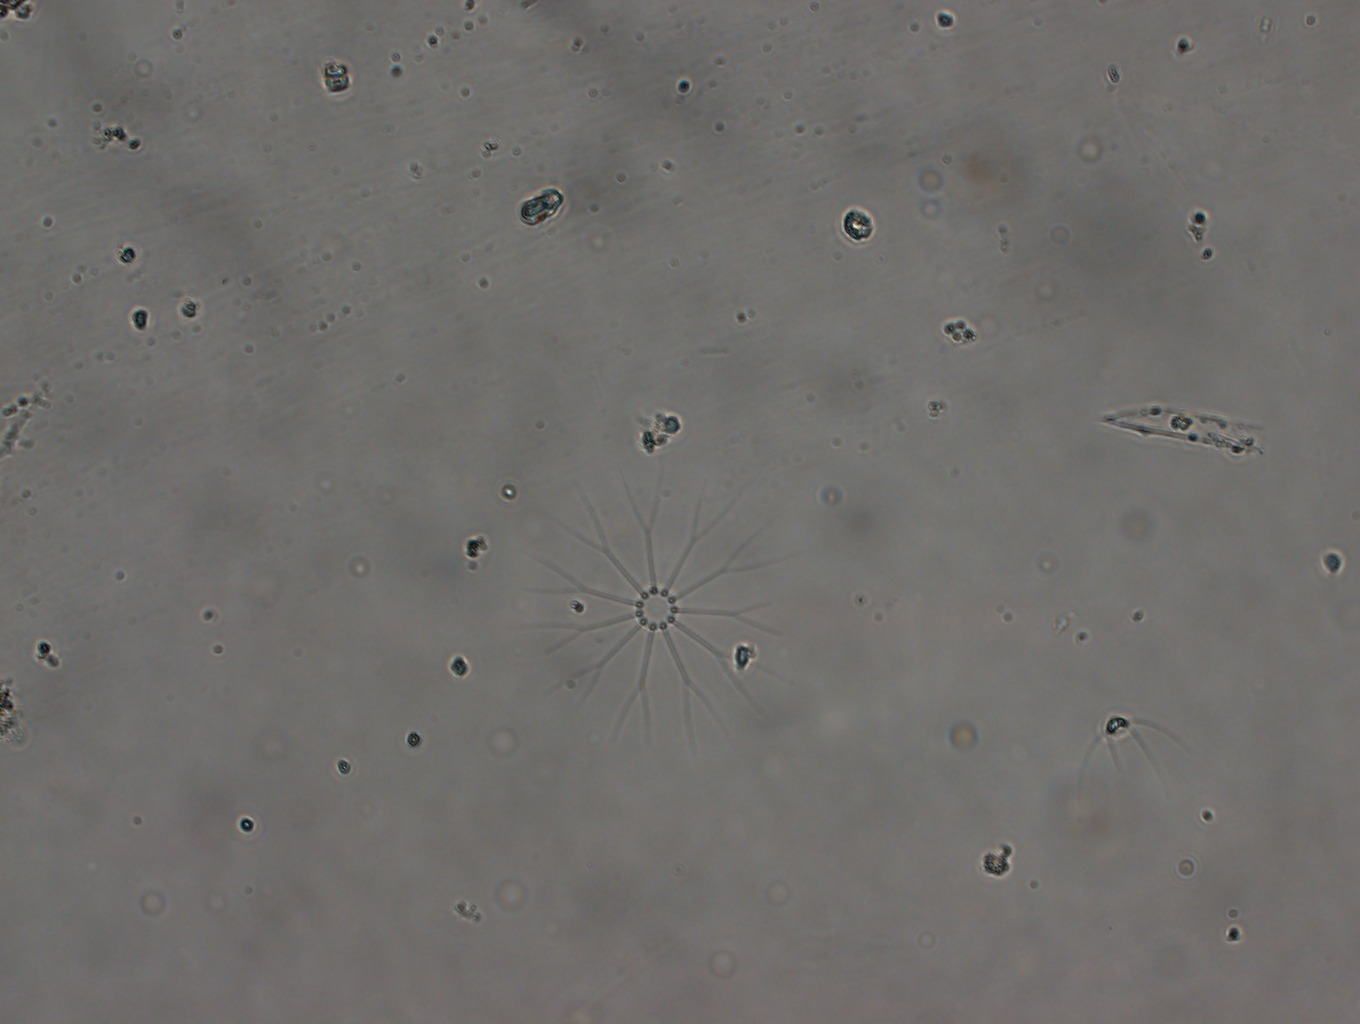bacteriastrum: (518, 467, 792, 748)
